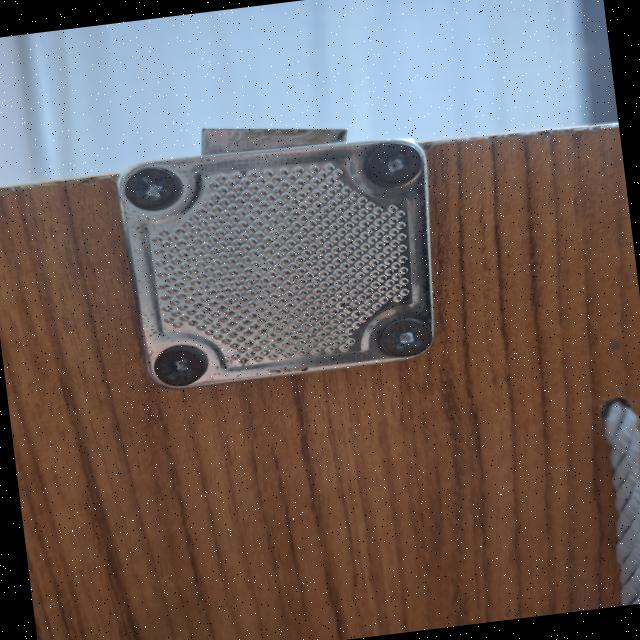Pozidriv: (148, 344, 215, 394), (119, 164, 184, 214), (370, 136, 432, 188), (375, 314, 434, 362)
